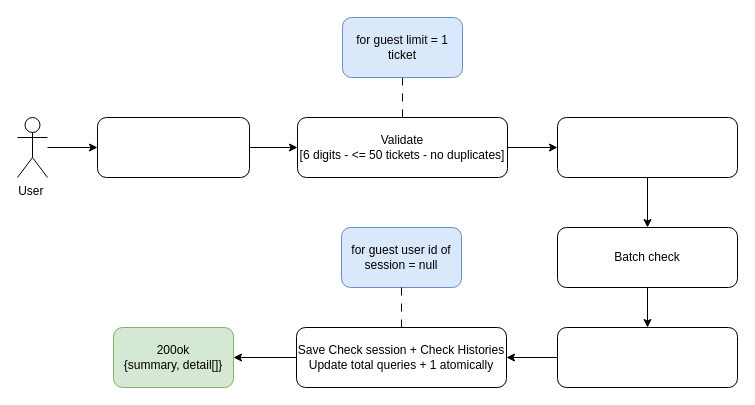
The diagram is 755 pixels wide and 405 high, and some of its shapes have lost their labels. Here are the shapes that lost their labels. From the top down, the centre of each, then its label:
At pixel 173 147: "POST /checker/check {stationid, date, number[]}".
At pixel 647 147: "Find Published Result {station, drawDate}".
At pixel 647 357: "Find best Prize".
